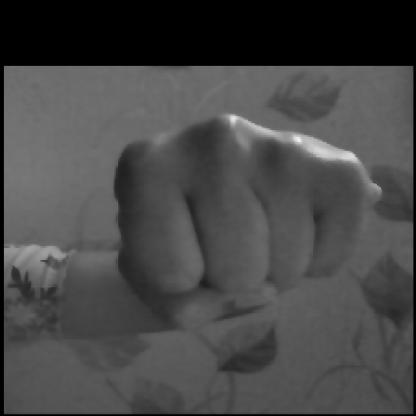fist: (38, 111, 386, 367)
